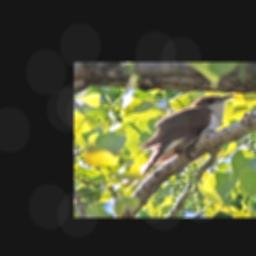Cuckoo: (136, 93, 236, 186)
